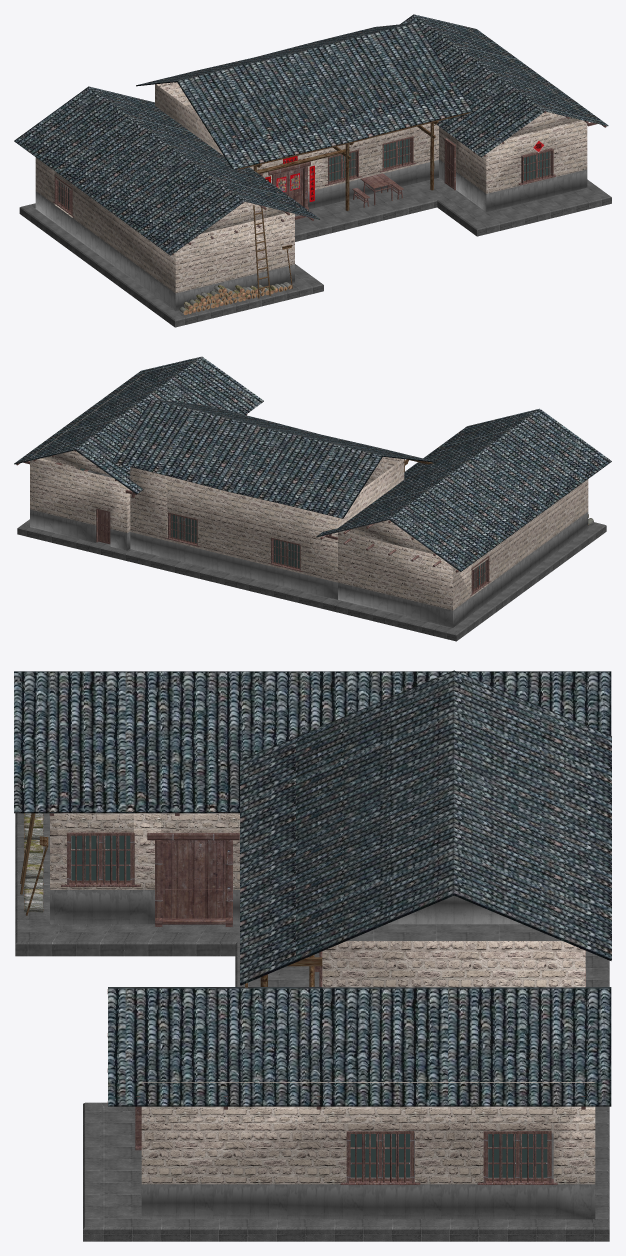
The picture shows the model from 3 angles, top to bottom: view 1: azimuth 30°, elevation 25°; view 2: azimuth 150°, elevation 25°; view 3: azimuth 270°, elevation 25°; orthographic projection. The views are drawn at different scales.
Parts seen in each view (by area): view 1: fangzi_47, fangzi_45, fangzi_34, fangzi_37, fangzi_5, fangzi_29; view 2: fangzi_47, fangzi_45, fangzi_37; view 3: fangzi_47, fangzi_45, fangzi_37, fangzi_5, fangzi_34.
Part boxes in pixels (box(x1,y1,x2,y2)): fangzi_47: box(14, 14, 611, 327); fangzi_45: box(53, 33, 606, 255); fangzi_34: box(188, 112, 470, 298); fangzi_37: box(58, 138, 550, 209); fangzi_5: box(179, 282, 291, 315); fangzi_29: box(265, 140, 544, 201); fangzi_47: box(14, 356, 611, 641); fangzi_45: box(16, 375, 490, 595); fangzi_37: box(80, 468, 485, 588); fangzi_47: box(14, 670, 611, 1241); fangzi_45: box(49, 813, 585, 1184); fangzi_37: box(71, 835, 547, 1177); fangzi_5: box(24, 813, 43, 912); fangzi_34: box(20, 813, 322, 987).
Size of the model in its own units: 1441 by 398 by 844.
Materials: 14 (13 with a texture image).
